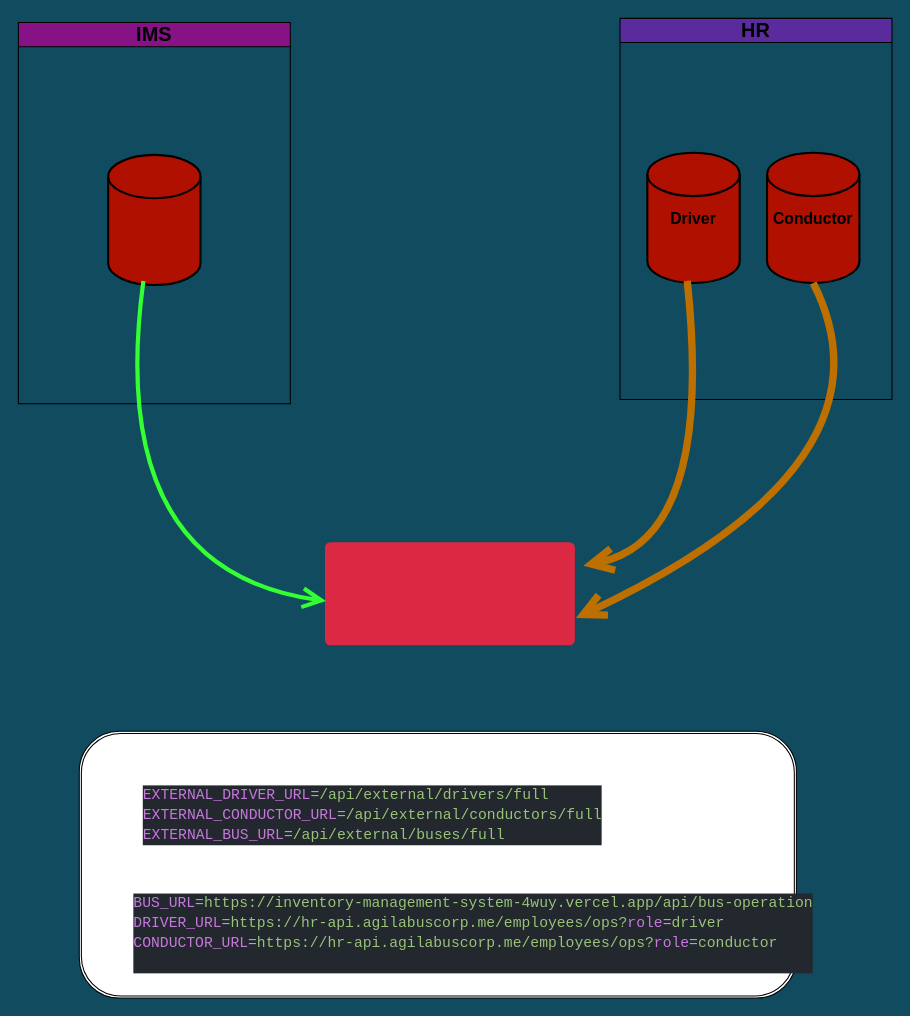
The diagram is 910 pixels wide and 1016 high, and some of its shapes have lost their labels. The centre of each missing label's shape, as x and y in pixels:
"BOMS" belongs at point (449, 593).
"Bus" belongs at point (154, 219).
